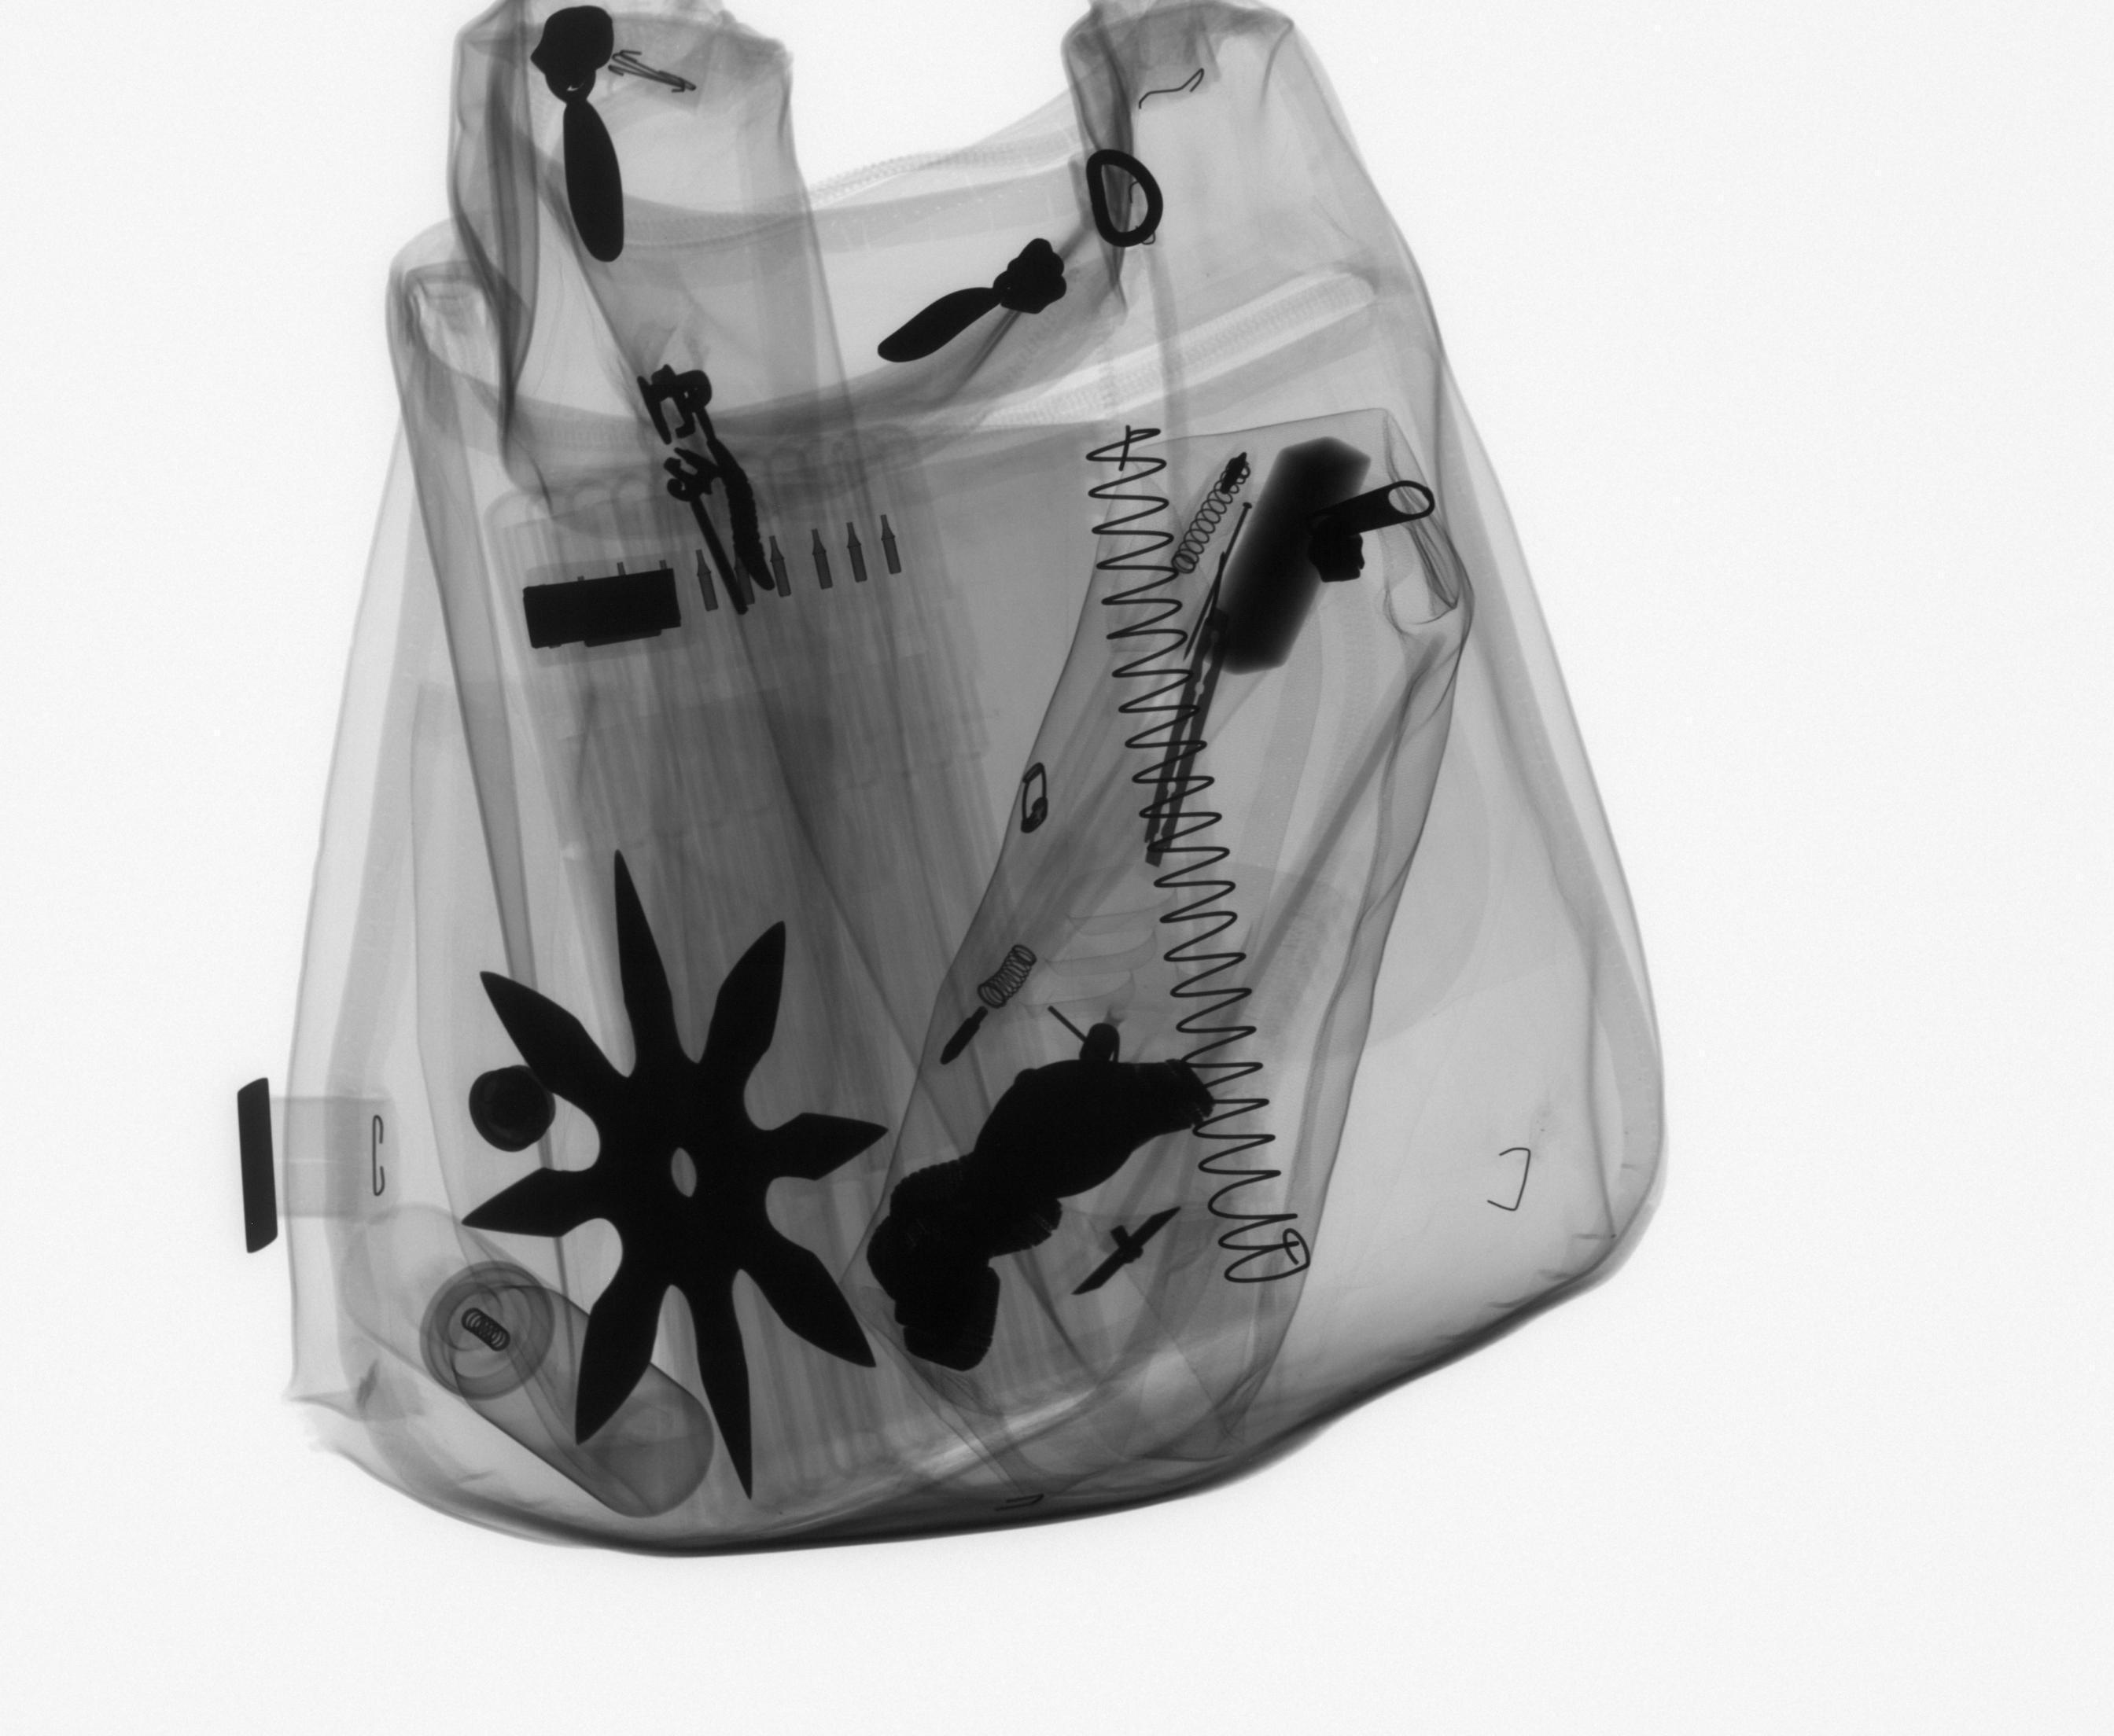RazorBlade: (1139, 603, 1236, 873)
Shuriken: (451, 837, 900, 1510)
